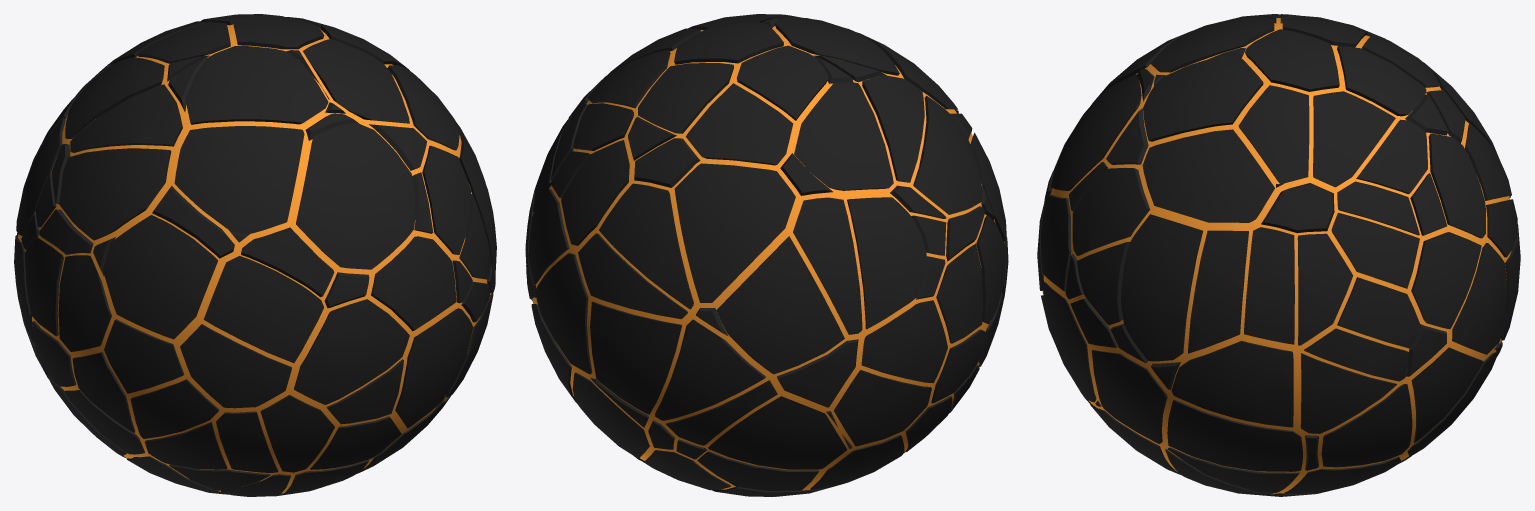
File: Lava_Planet.fbx
3 renders of one model, left to right at view 1: azimuth 30°, elevation 25°; view 2: azimuth 150°, elevation 25°; view 3: azimuth 270°, elevation 25°, orthographic.
Parts seen in each view (by area): view 1: Lava_Planet; view 2: Lava_Planet; view 3: Lava_Planet.
Boxes of the visible parts, bbox=[...] form: Lava_Planet: bbox=[14, 14, 496, 496]; Lava_Planet: bbox=[525, 14, 1008, 496]; Lava_Planet: bbox=[1037, 14, 1520, 496].
Bounding box in the file's own units: 328 × 329 × 329.
